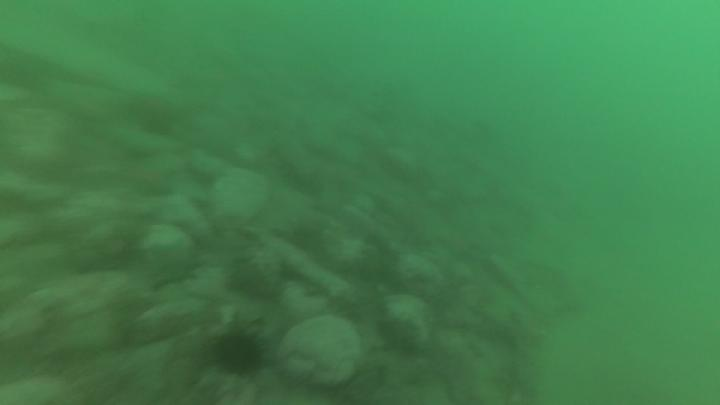echinus: (211, 328, 269, 383), (138, 107, 175, 138)
